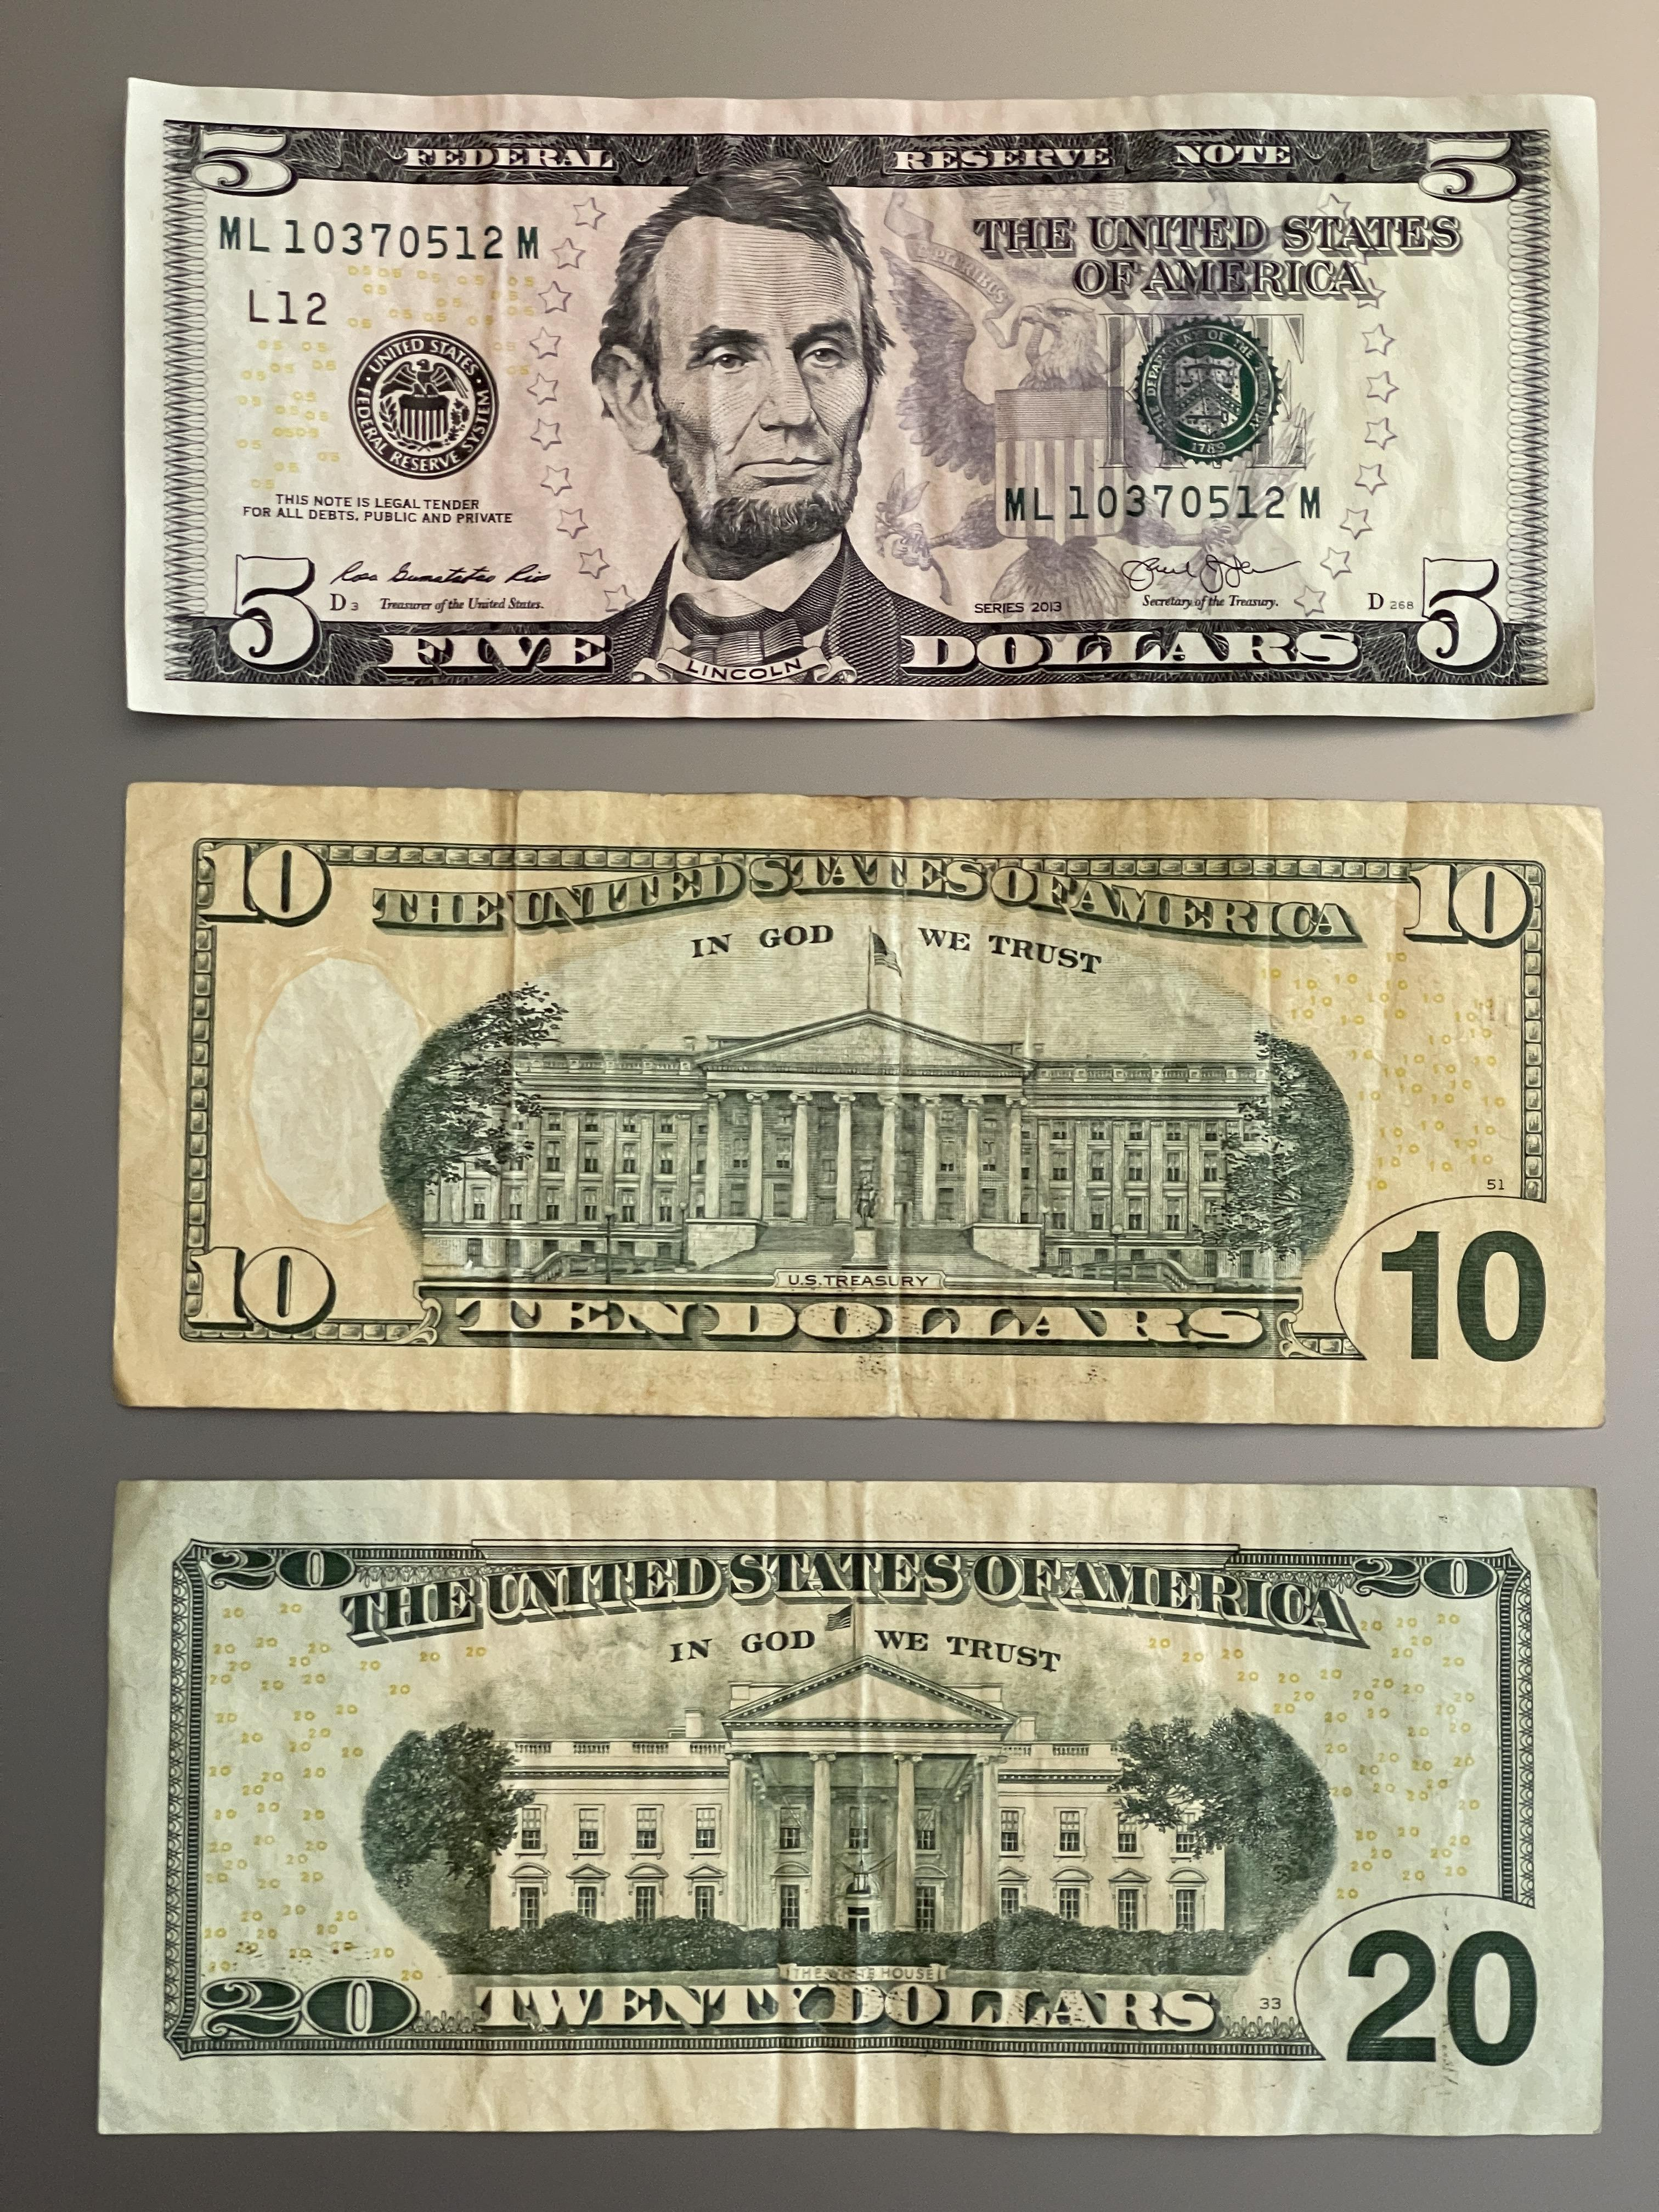FiveBill: (119, 71, 1605, 725)
TenBill: (115, 777, 1612, 1432)
TwentyBill: (96, 1474, 1612, 2142)
